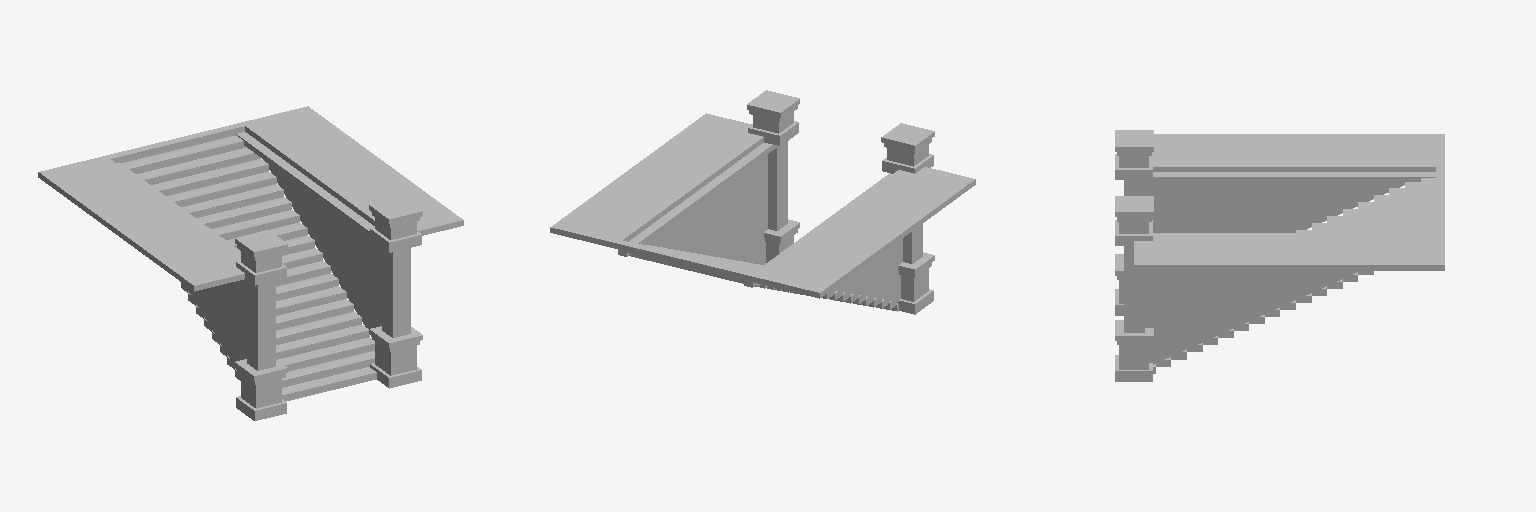
Rendered from Stair2.obj.
The picture shows the model from 3 angles: view 1: azimuth 30°, elevation 25°; view 2: azimuth 150°, elevation 25°; view 3: azimuth 270°, elevation 25°; orthographic projection.
Visible parts, largest first — view 1: object_47, object_44, object_43, object_42, object_45, object_46, object_41, object_32, object_23, object_2, object_3, object_4 (+25 smaller); view 2: object_47, object_43, object_42, object_44, object_45, object_46, object_23, object_32, object_1, object_36, object_27, object_39 (+2 smaller); view 3: object_46, object_47, object_42, object_45, object_43, object_44, object_22, object_32, object_36, object_2, object_27, object_3 (+7 smaller).
Boxes of the visible parts, box(x1,y1,x2,y2) form: object_47: box(245, 128, 381, 336); object_44: box(116, 213, 244, 291); object_43: box(38, 156, 183, 233); object_42: box(241, 106, 384, 179); object_45: box(319, 163, 463, 235); object_46: box(188, 279, 246, 369); object_41: box(247, 281, 275, 370); object_32: box(382, 248, 410, 337); object_23: box(236, 132, 374, 236); object_2: box(121, 135, 245, 173); object_3: box(136, 147, 260, 184); object_4: box(151, 159, 268, 195); object_47: box(625, 137, 767, 264); object_43: box(753, 220, 897, 298); object_42: box(550, 170, 694, 248); object_44: box(831, 167, 975, 240); object_45: box(629, 113, 763, 186); object_46: box(834, 238, 902, 301); object_23: box(618, 143, 776, 256); object_32: box(768, 141, 787, 230); object_1: box(618, 240, 756, 283); object_36: box(881, 123, 934, 150); object_27: box(747, 90, 799, 117); object_39: box(901, 268, 928, 301); object_46: box(1145, 167, 1435, 232); object_47: box(1145, 271, 1358, 364); object_42: box(1290, 233, 1444, 270); object_45: box(1134, 233, 1289, 270); object_43: box(1290, 134, 1444, 171); object_44: box(1152, 134, 1289, 171); object_22: box(1145, 172, 1435, 181); object_32: box(1124, 246, 1144, 332); object_36: box(1115, 130, 1153, 151); object_2: box(1421, 178, 1435, 232); object_27: box(1115, 196, 1153, 216); object_3: box(1405, 182, 1420, 232).
Size of the model in its own units: 20 by 12.01 by 21.25.